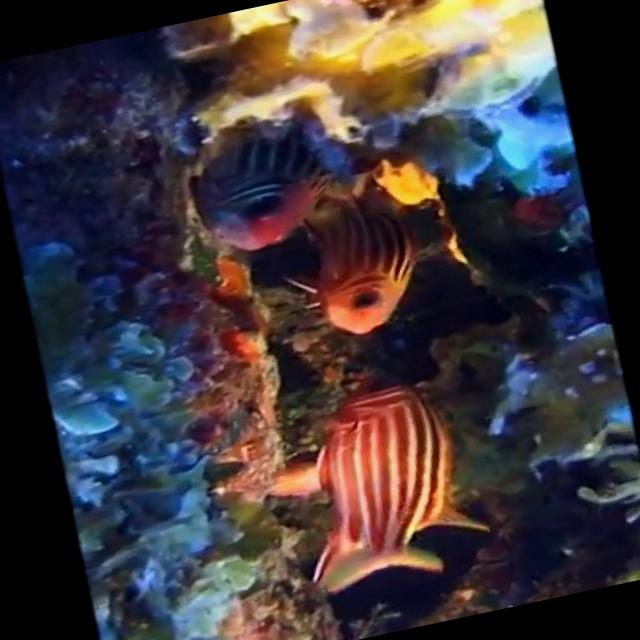Asker Baligi: (246, 355, 499, 607), (272, 160, 442, 352)
